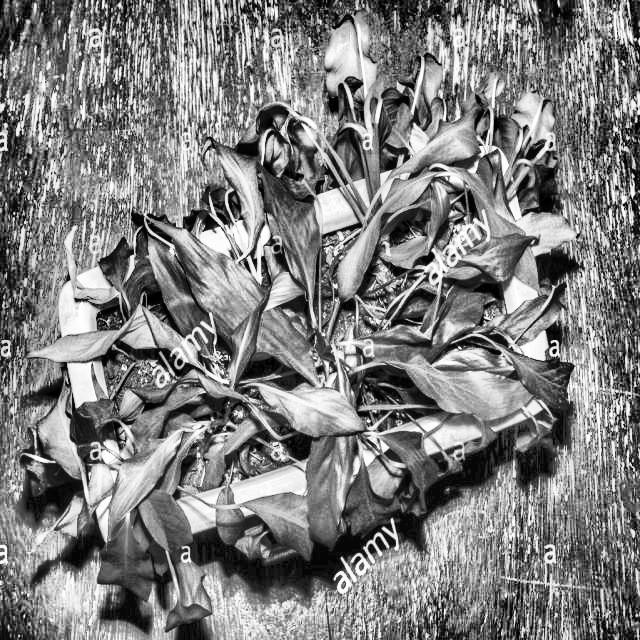plants: (41, 150, 598, 590)
